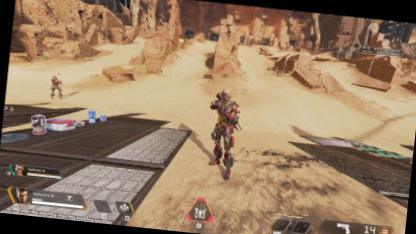Target: (204, 87, 242, 181), (48, 75, 65, 99)
